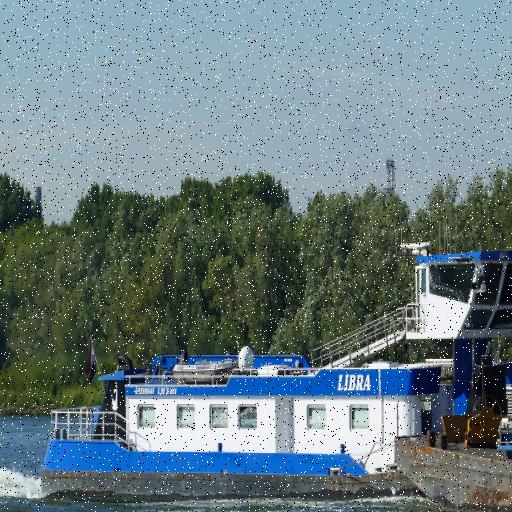tugboat: (39, 215, 512, 512)
